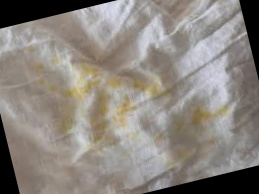mustard: (109, 59, 169, 111), (49, 101, 84, 147), (51, 73, 88, 105), (85, 109, 114, 148), (173, 143, 220, 166), (78, 57, 107, 91), (104, 96, 133, 128), (189, 102, 226, 124), (94, 90, 119, 120), (158, 122, 191, 139), (29, 61, 47, 81), (49, 54, 62, 66), (25, 45, 39, 54)
